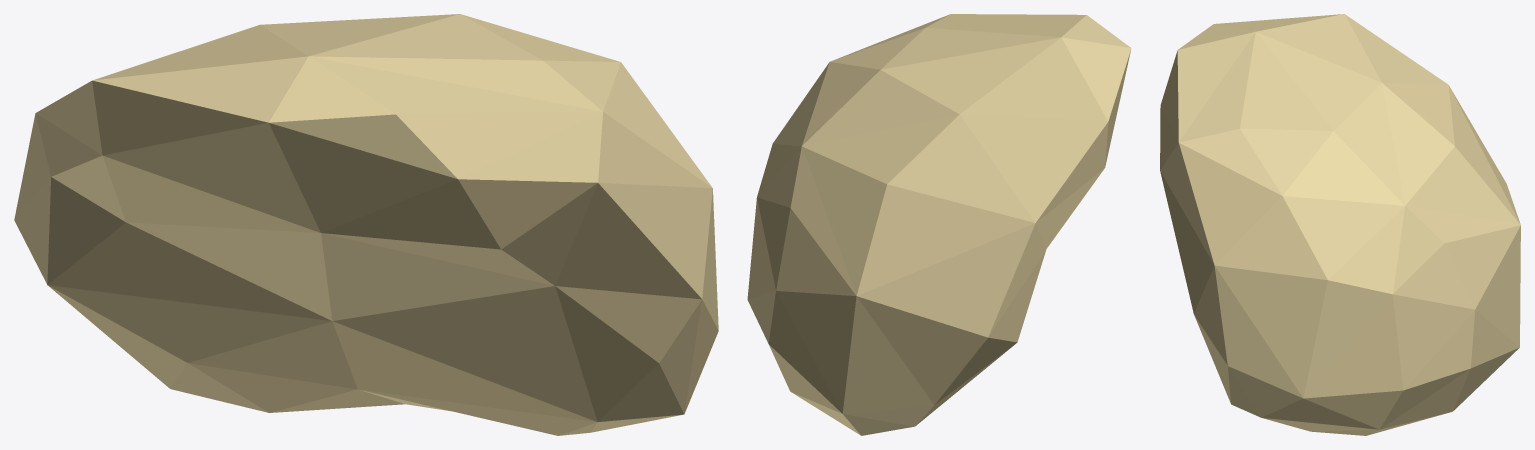
The model's file is Rock (6).fbx.
3 views of the same model, side by side, from view 1: azimuth 30°, elevation 25°; view 2: azimuth 150°, elevation 25°; view 3: azimuth 270°, elevation 25° (orthographic). The views are drawn at different scales.
Visible parts, largest first — view 1: Asteroid5; view 2: Asteroid5; view 3: Asteroid5.
Part boxes in pixels (x1,y1,x2,y2): Asteroid5: (14, 14, 718, 435); Asteroid5: (747, 14, 1131, 435); Asteroid5: (1160, 14, 1520, 435).
Bounding box in the file's own units: 195 × 170 × 177.
